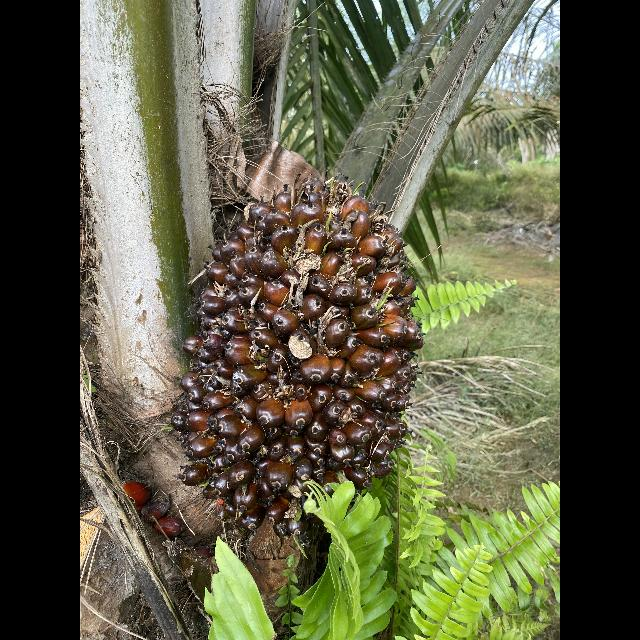Unripe: (171, 176, 428, 541)
